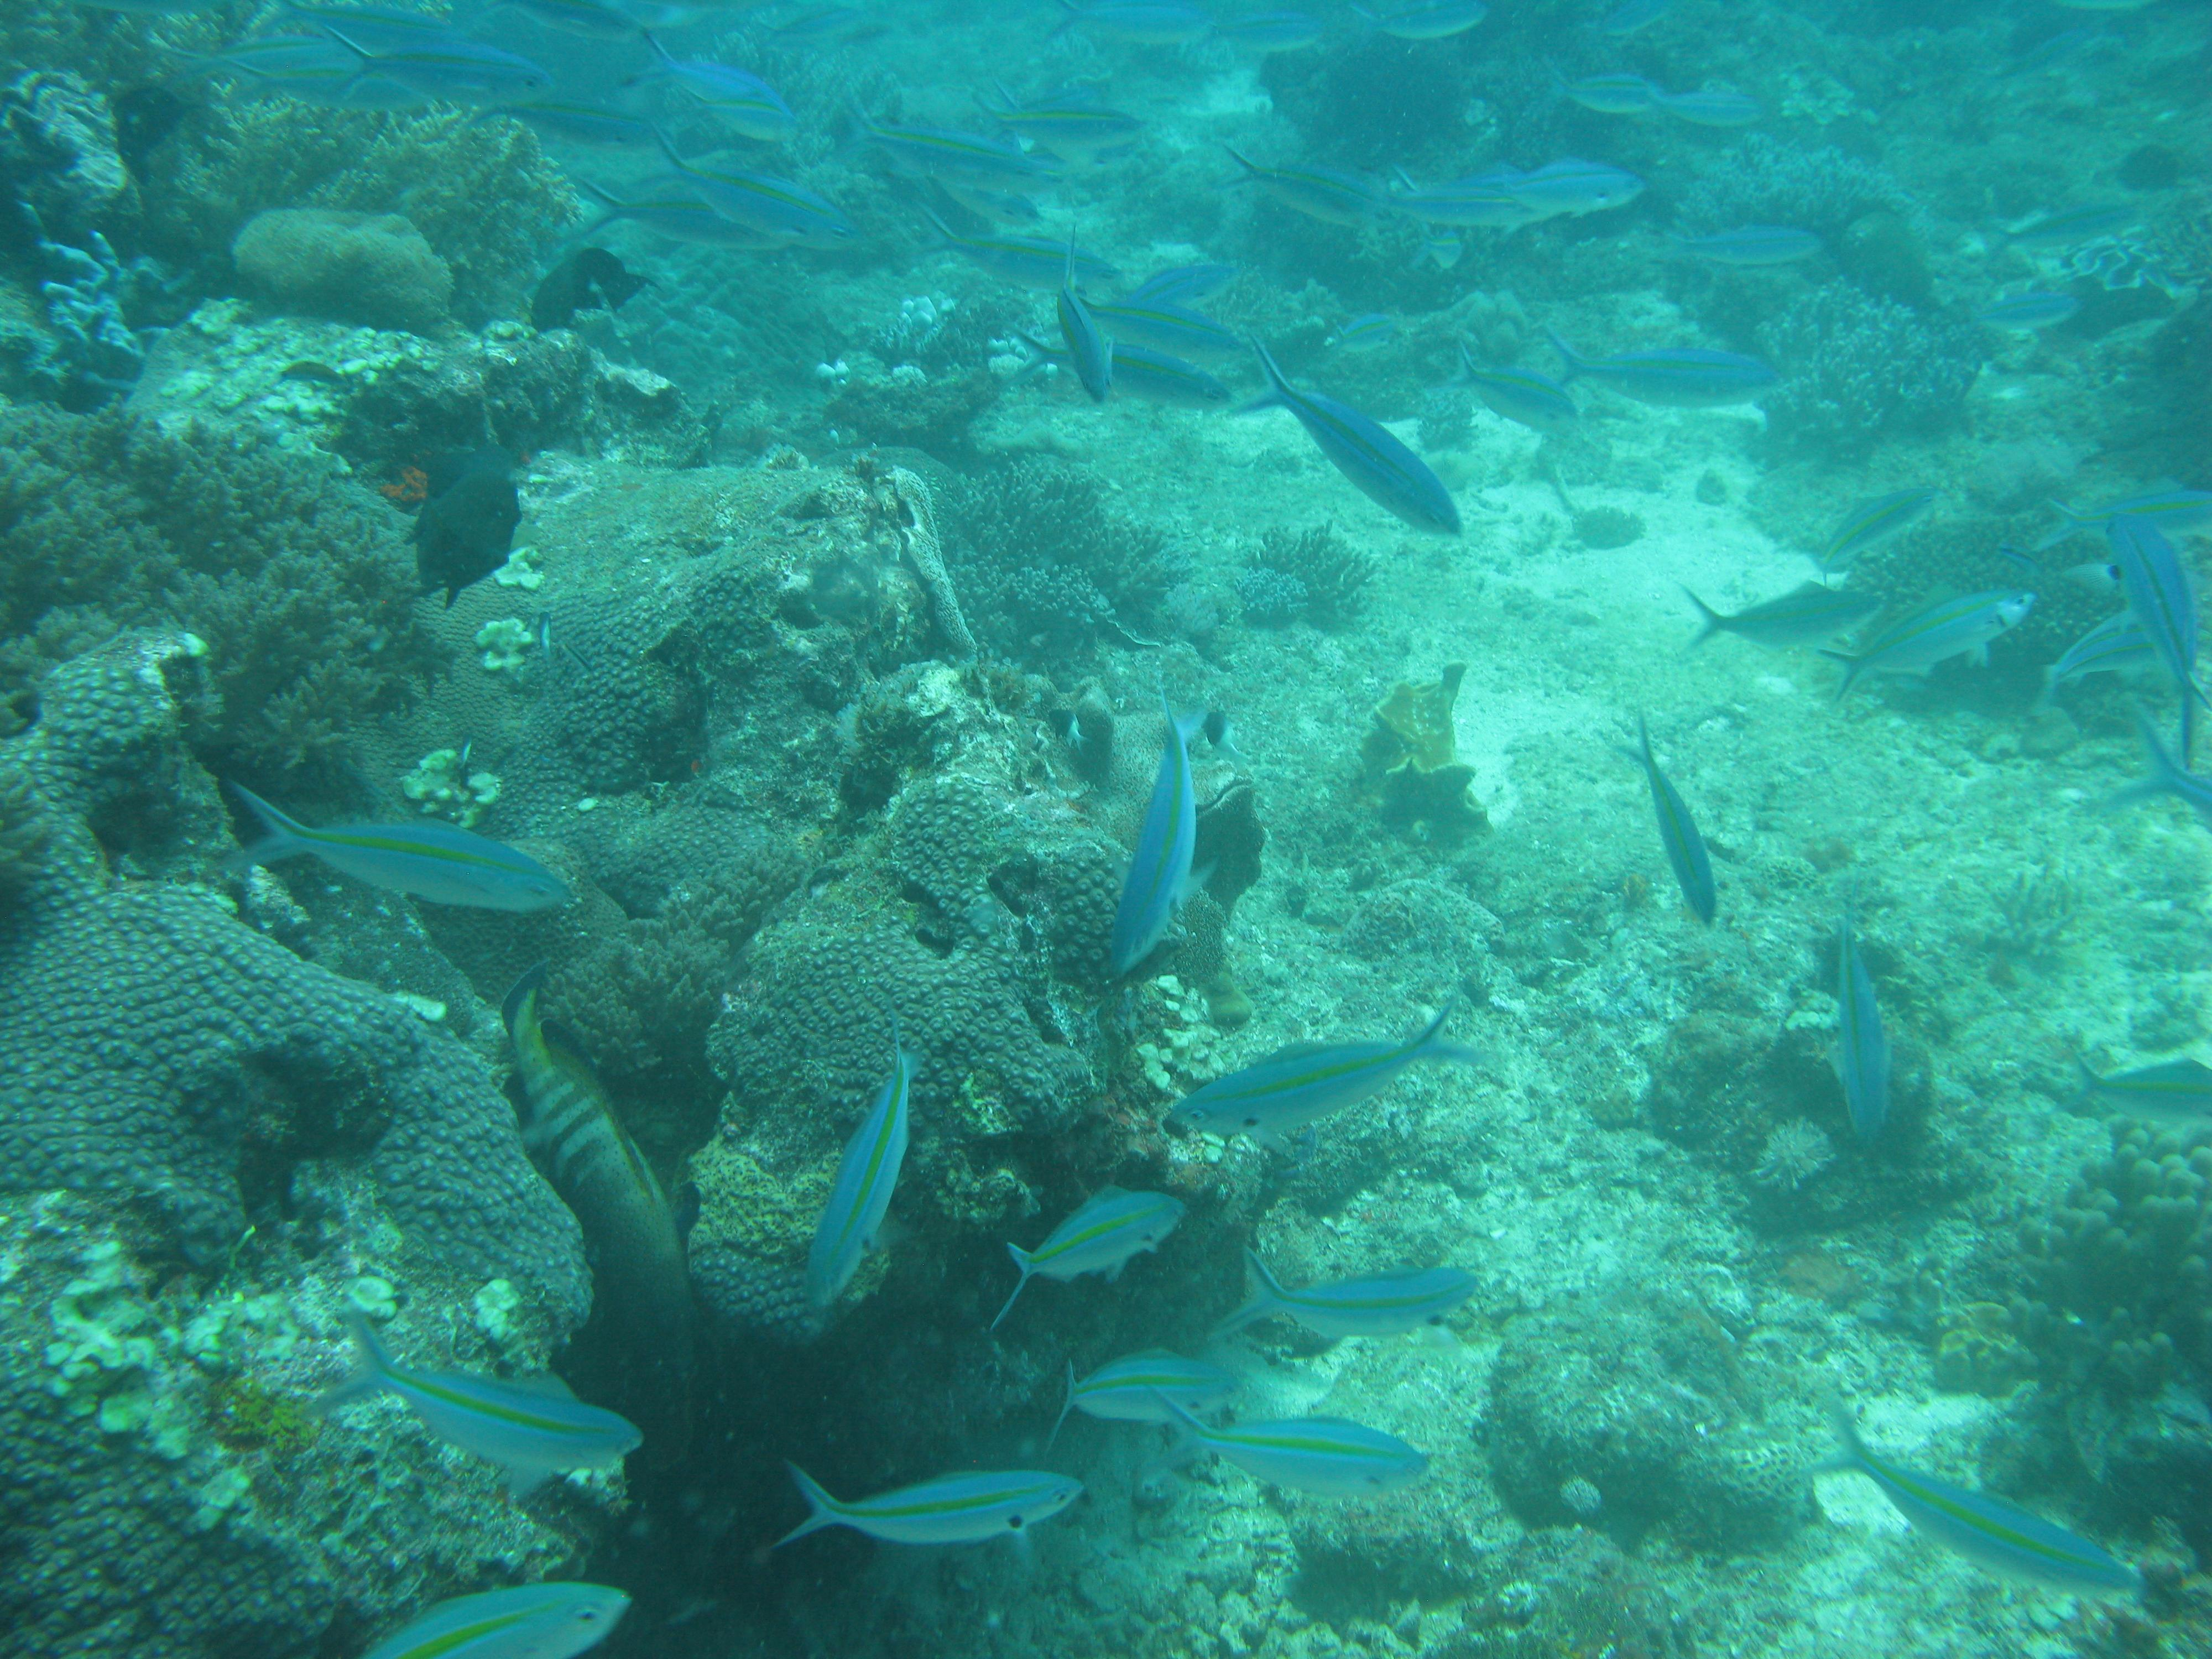Caesio caerulaura: (1820, 1405, 2158, 1633), (216, 755, 594, 958), (341, 1297, 660, 1506), (1150, 979, 1482, 1166), (1242, 328, 1489, 570), (758, 1009, 935, 1324), (1082, 681, 1252, 999), (775, 1422, 1099, 1584), (1212, 1225, 1510, 1371), (2050, 479, 2212, 744), (631, 99, 867, 275), (1157, 1385, 1437, 1525), (991, 1145, 1195, 1331), (1609, 716, 1735, 957), (1543, 324, 1797, 441), (1797, 904, 1914, 1147), (1212, 145, 1423, 253)
